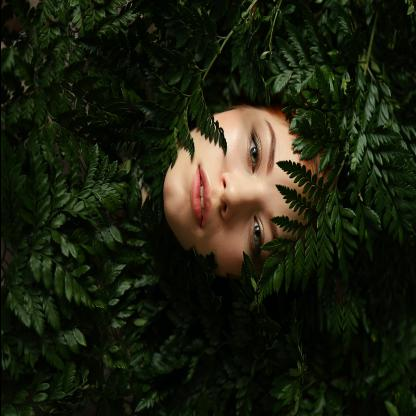Eye: (243, 125, 261, 177), (247, 213, 265, 258)
Mouth: (189, 162, 212, 233)
Nose: (219, 174, 257, 221)
